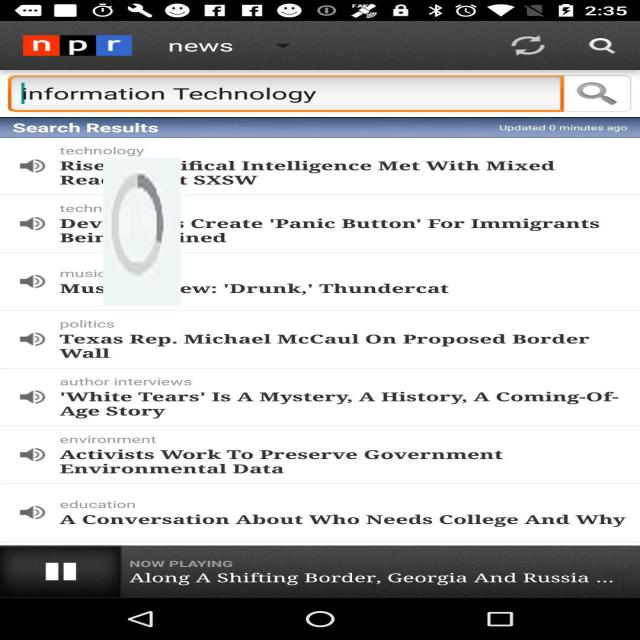misdirection: (103, 158, 181, 306)
